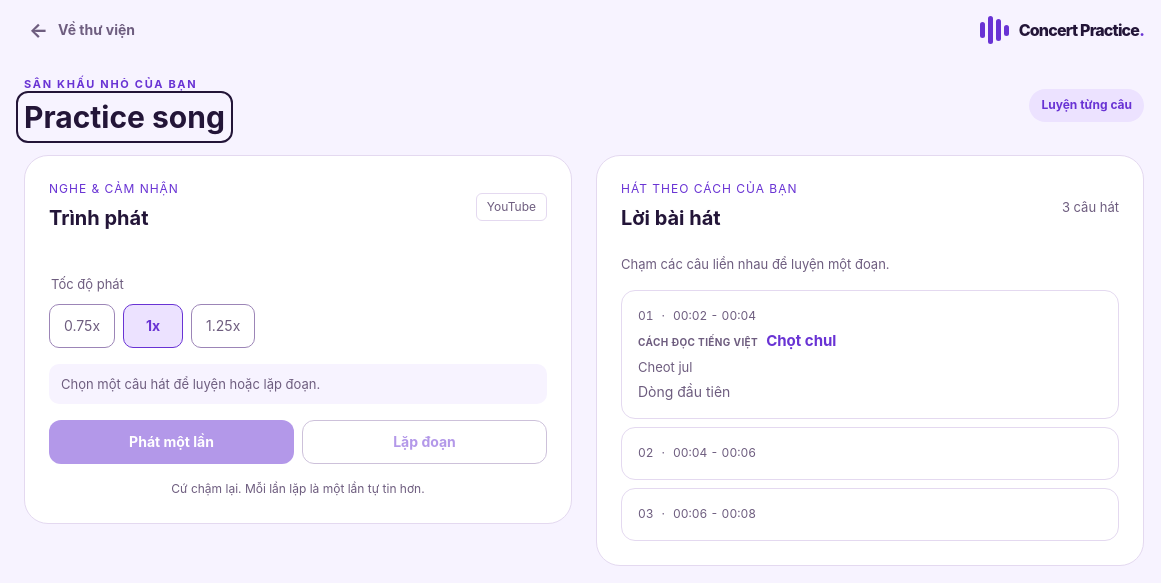
Test: PracticePanel › creates a range from adjacent lyric selections
Click the button "Chọt chul": (714, 315) [621,290,1119,420]
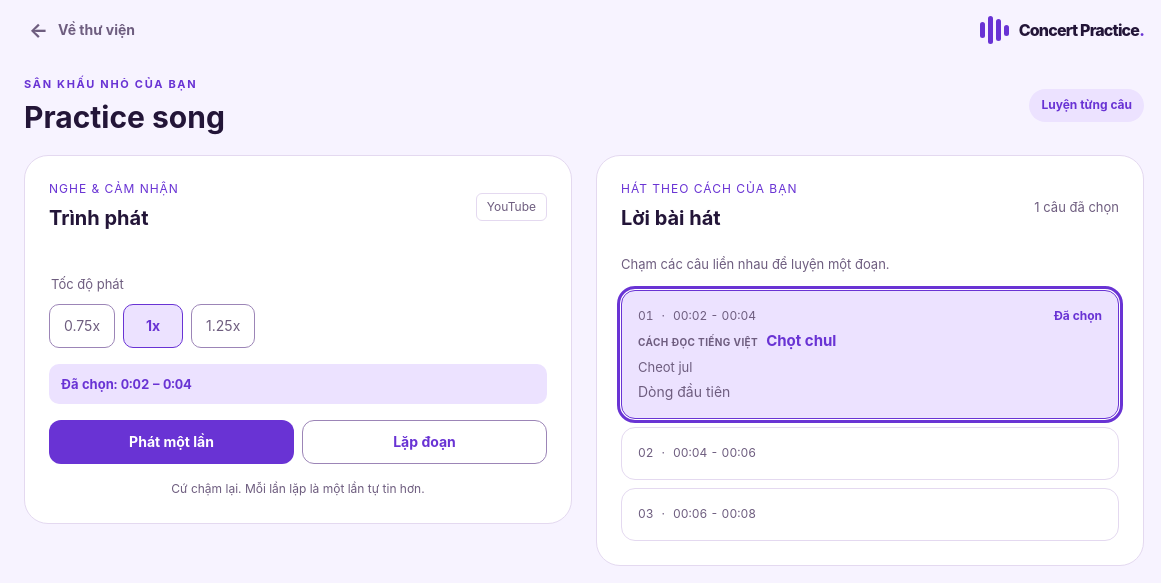
Click the button "02 · 00:04 - 00:06": (714, 453) [621,428,1119,480]
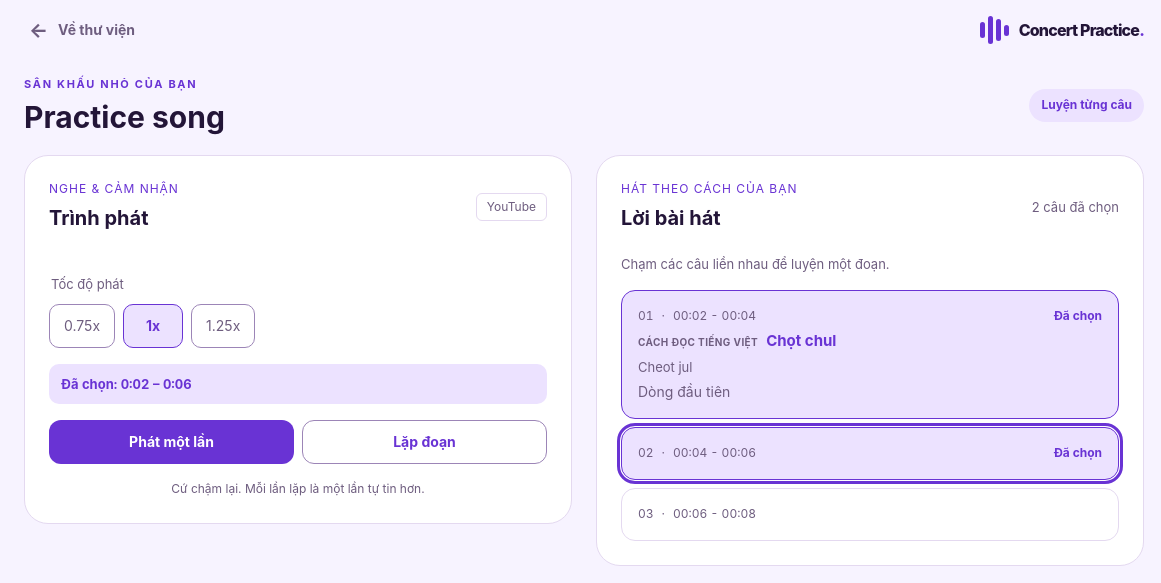
Expected: the text "Đã chọn: 0:02 – 0:06" is shown, [49,364,547,404]
